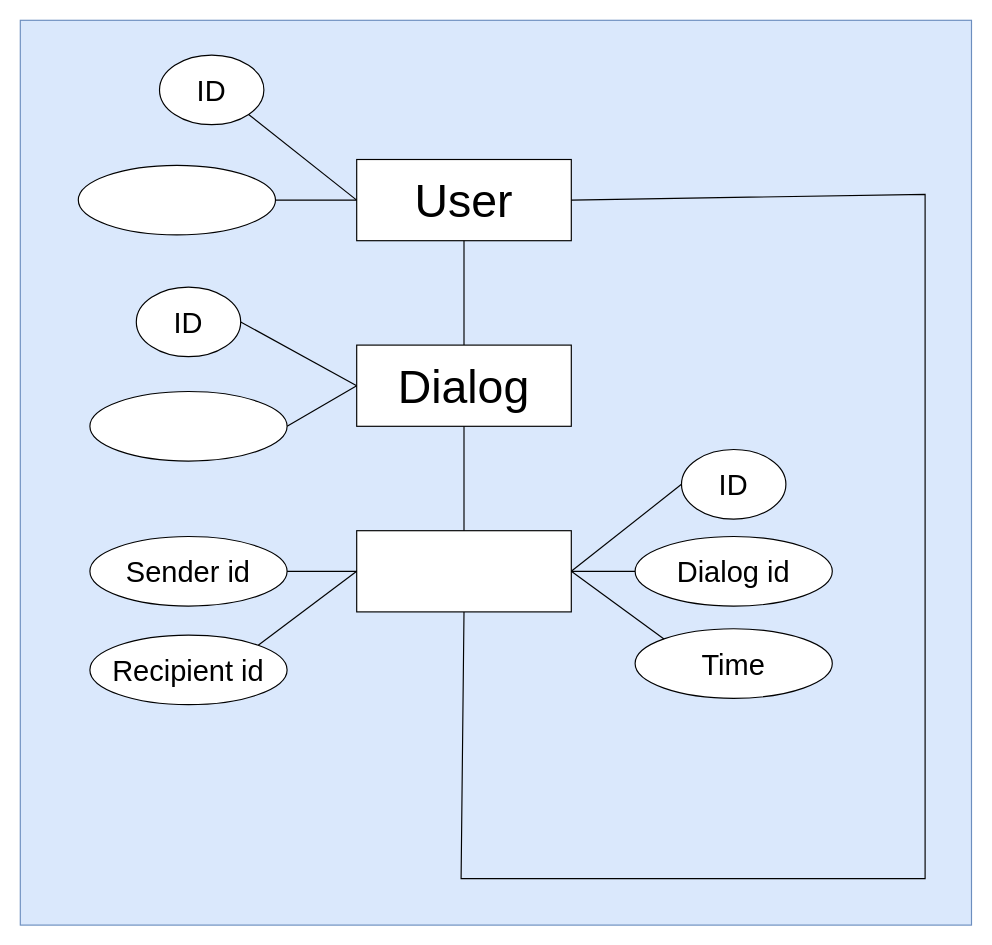
This 992x945 diagram has some shape labels left out. The box of each missing label's shape, as (x1, y1, x2, y2) in pixels:
Message: (356, 530, 571, 612)
User id: (89, 390, 287, 461)
Username: (77, 164, 276, 235)
